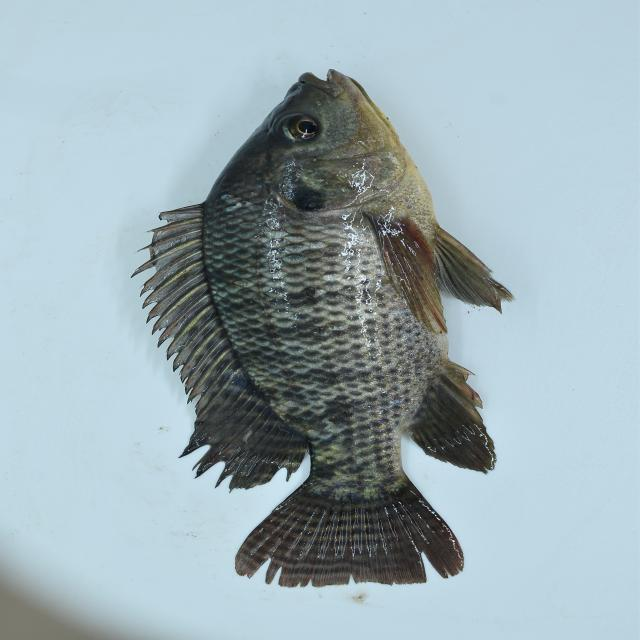Healthy Fish: (134, 67, 512, 594)
